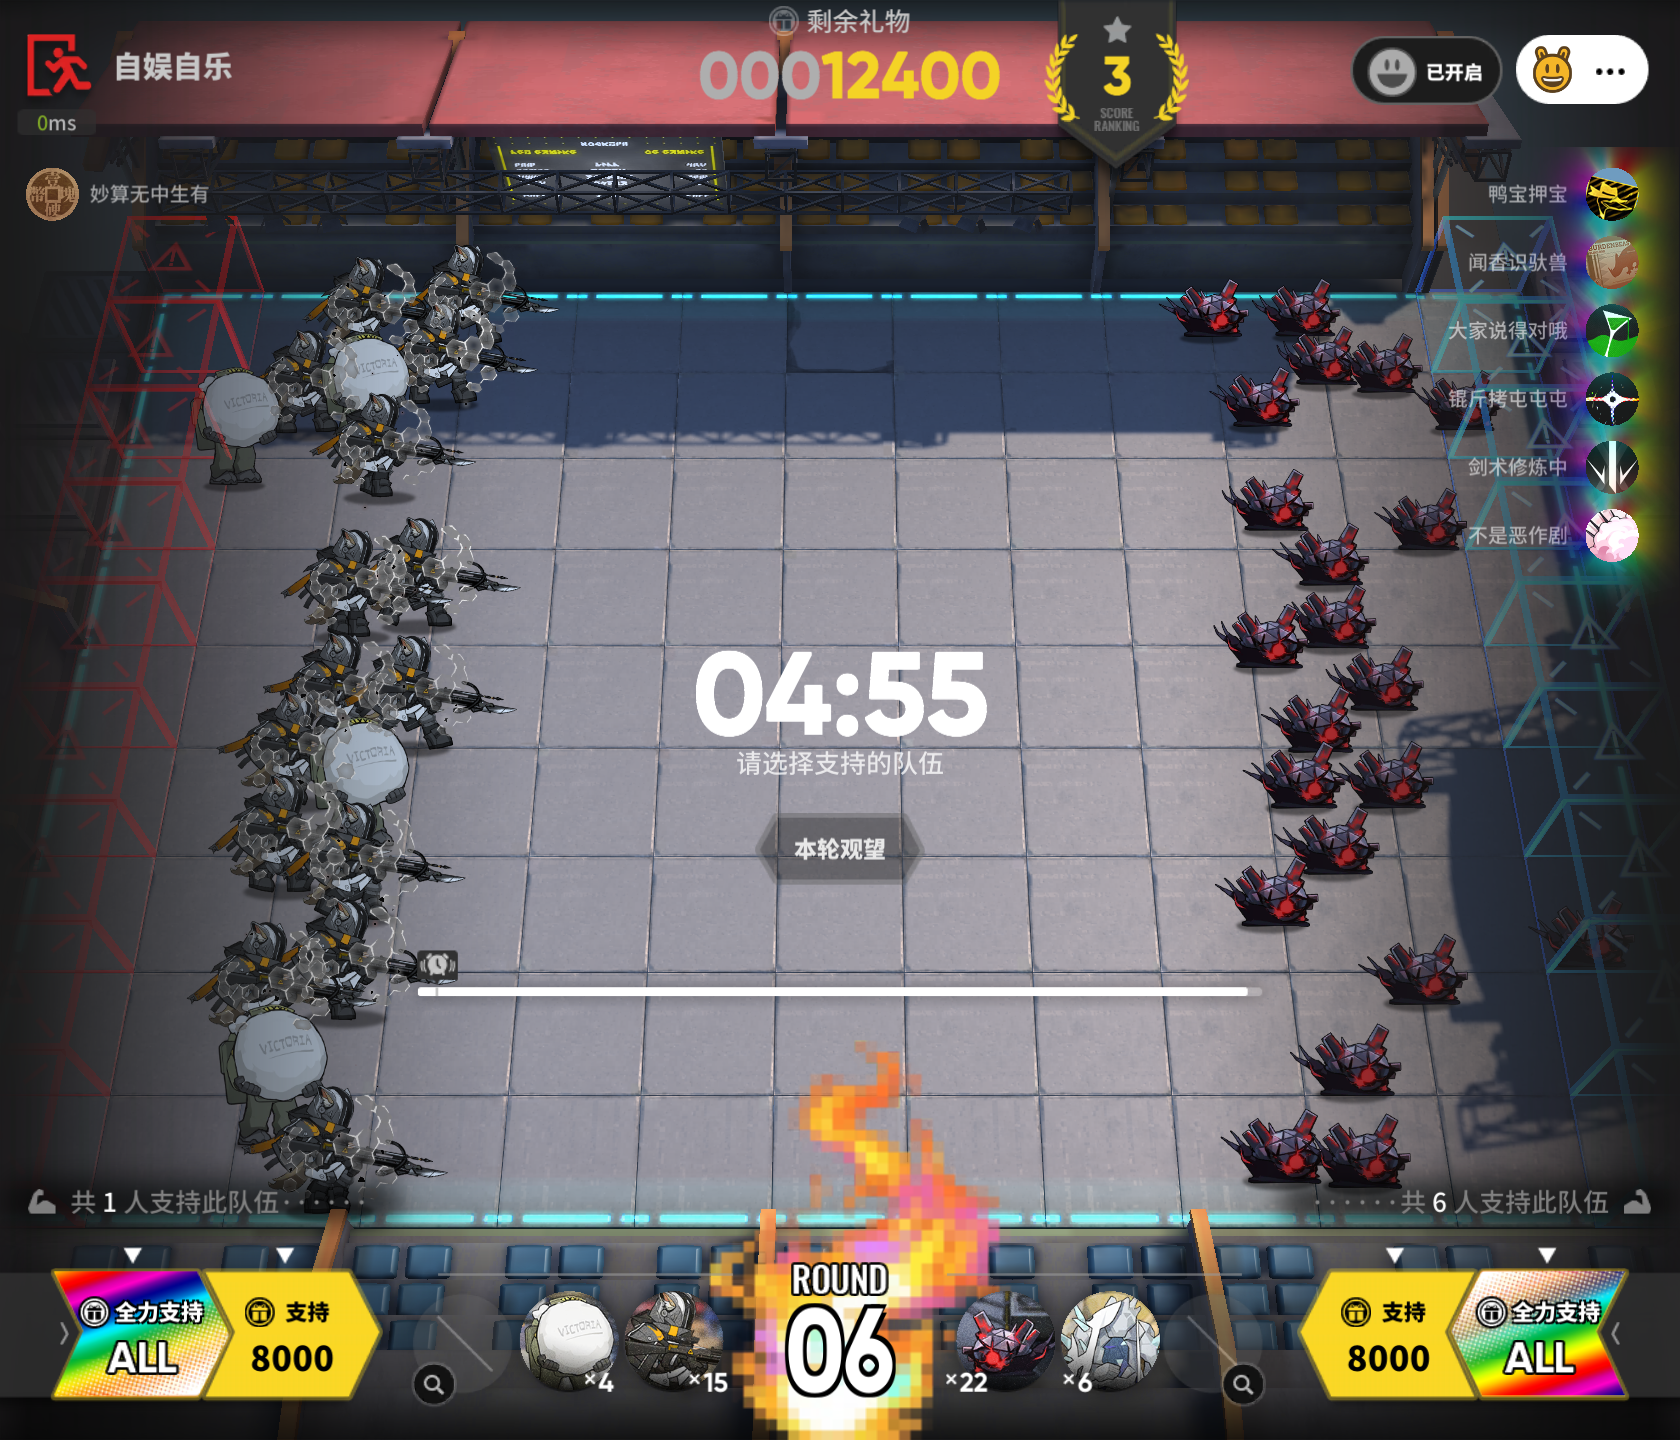保鲜膜骑士: (239, 1071, 441, 1213), (189, 914, 376, 1037), (289, 523, 449, 646), (313, 383, 469, 507), (400, 289, 549, 414), (419, 229, 561, 359), (371, 631, 519, 754), (303, 897, 456, 1013), (234, 314, 379, 434), (319, 794, 471, 906), (381, 514, 521, 634), (209, 767, 319, 897), (316, 253, 444, 360), (291, 626, 411, 740), (626, 1283, 734, 1397), (236, 684, 333, 804)
巨大雪球投手: (216, 993, 329, 1154), (311, 704, 414, 829), (511, 1286, 626, 1393), (191, 360, 281, 490), (319, 321, 421, 427)
扎人的石头: (1054, 1286, 1163, 1391)
流鼻涕虫虫: (949, 1289, 1054, 1391), (1289, 1023, 1401, 1096), (1357, 933, 1466, 1006), (1219, 1109, 1323, 1183), (1529, 894, 1631, 969), (1213, 856, 1319, 926), (1274, 806, 1379, 874), (1241, 741, 1344, 809), (1319, 1113, 1411, 1187), (1261, 686, 1361, 751), (1324, 644, 1423, 710), (1271, 521, 1369, 586), (1211, 601, 1304, 669), (1339, 741, 1431, 807), (1373, 487, 1467, 549), (1413, 370, 1506, 431), (1220, 469, 1313, 530), (1290, 581, 1376, 647), (1207, 366, 1299, 427), (1159, 279, 1247, 336), (1251, 279, 1339, 336), (1274, 324, 1357, 384), (1349, 331, 1421, 391)
